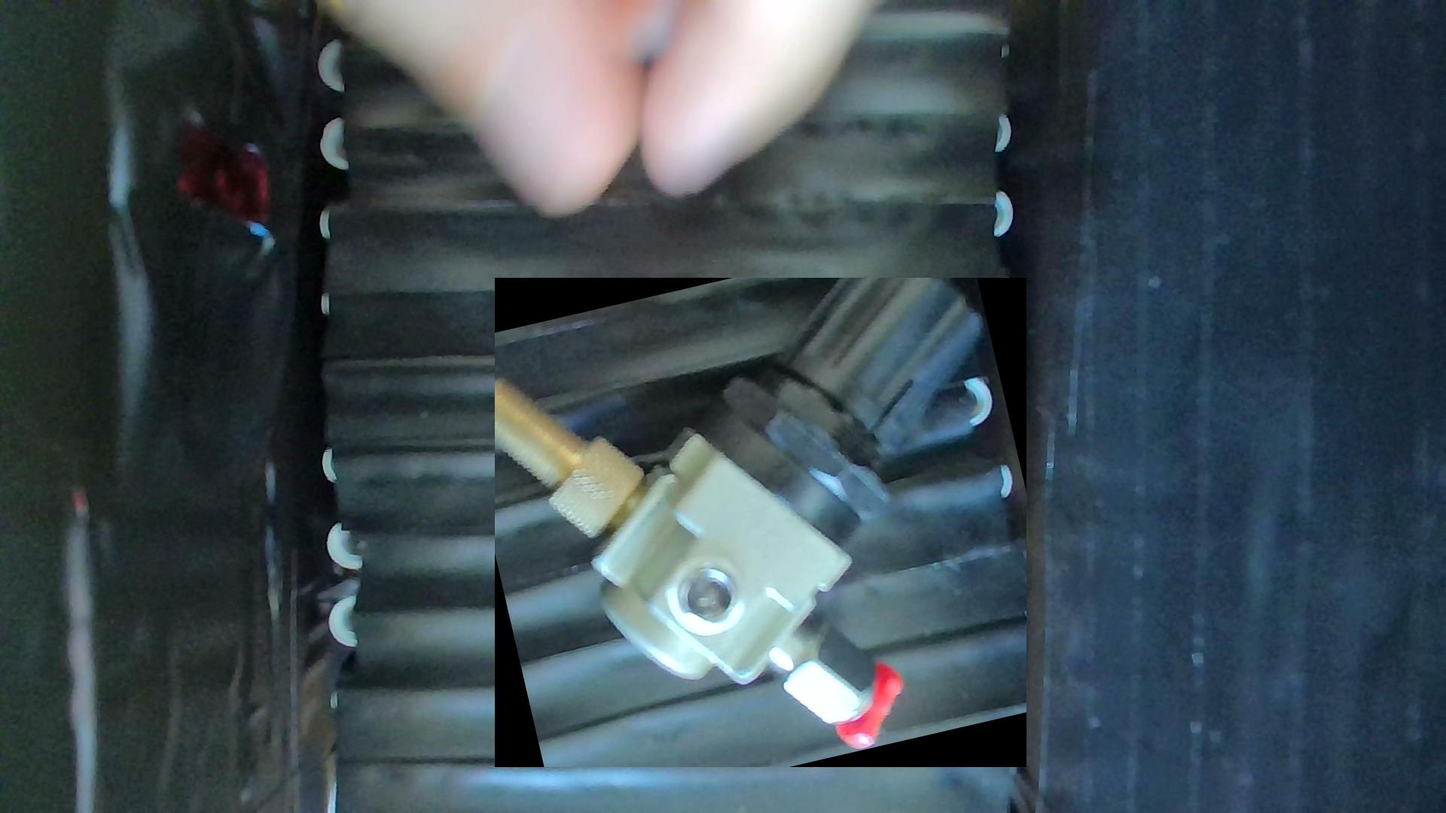regulator: (495, 278, 1027, 767)
